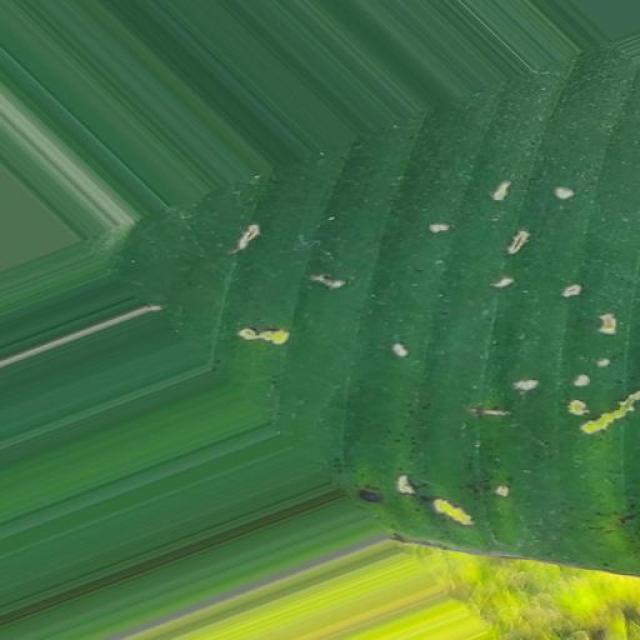Black_rot: (201, 175, 640, 573)
